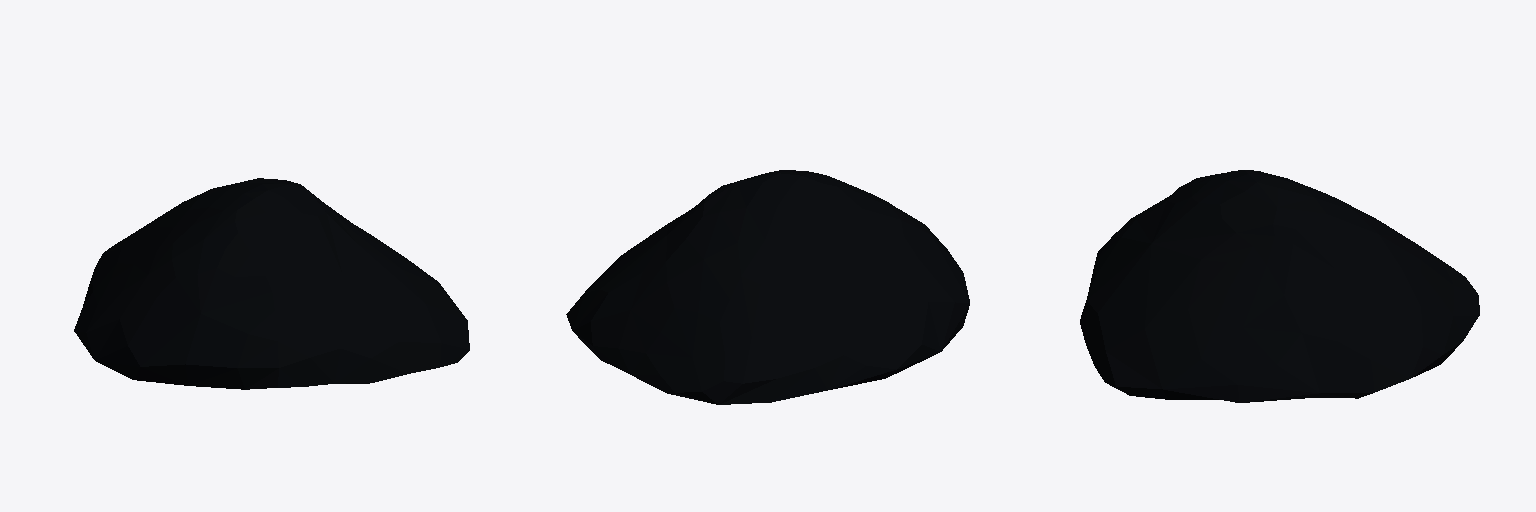
File: rock_flat.obj
3 views of the same model, side by side, from view 1: azimuth 30°, elevation 25°; view 2: azimuth 150°, elevation 25°; view 3: azimuth 270°, elevation 25° (orthographic).
Visible parts, largest first — view 1: pedra2; view 2: pedra2; view 3: pedra2.
Part boxes in pixels (x1,y1,x2,y2): pedra2: (74,178,469,389); pedra2: (566,170,969,404); pedra2: (1080,170,1479,402).
Bounding box in the file's own units: 8.81 × 3.73 × 9.15.